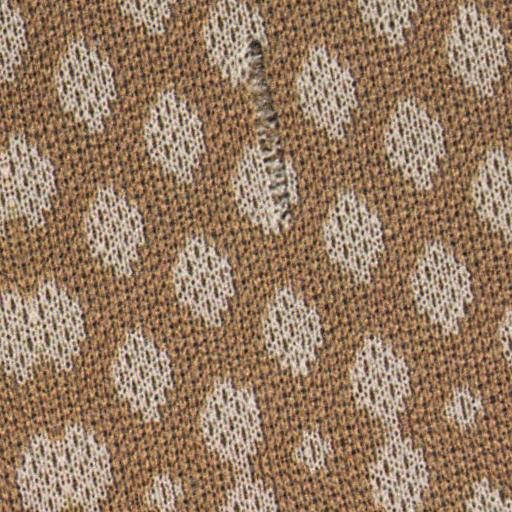slub: (229, 29, 319, 239)
